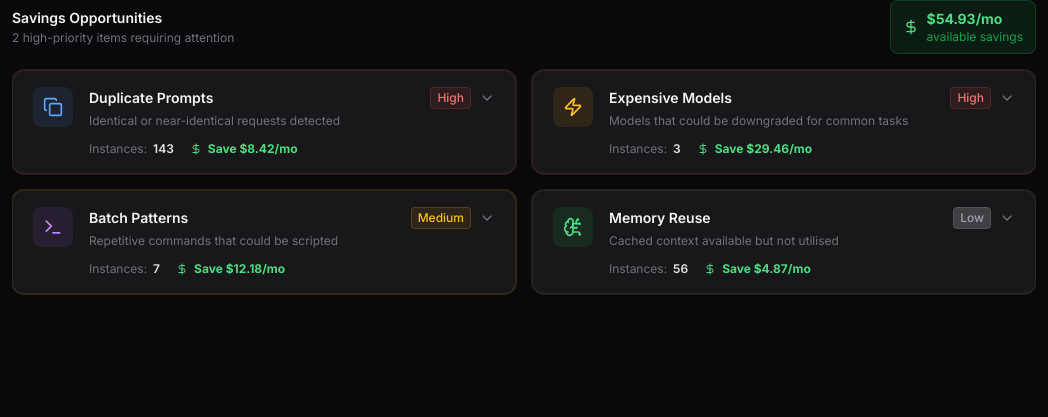
Test: SavingsOpportunities › hides details when the same card is clicked again
Click the button "Duplicate Prompts" at (264, 122), box [13,71,515,173]
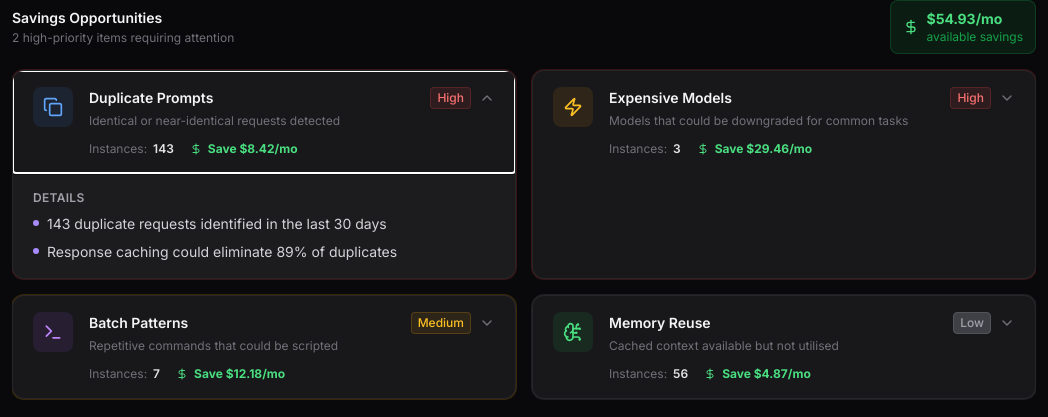
Expected: the text "Details" is shown, [33,190,84,205]
Click the button "Duplicate Prompts" at (264, 122), box [13,71,515,173]
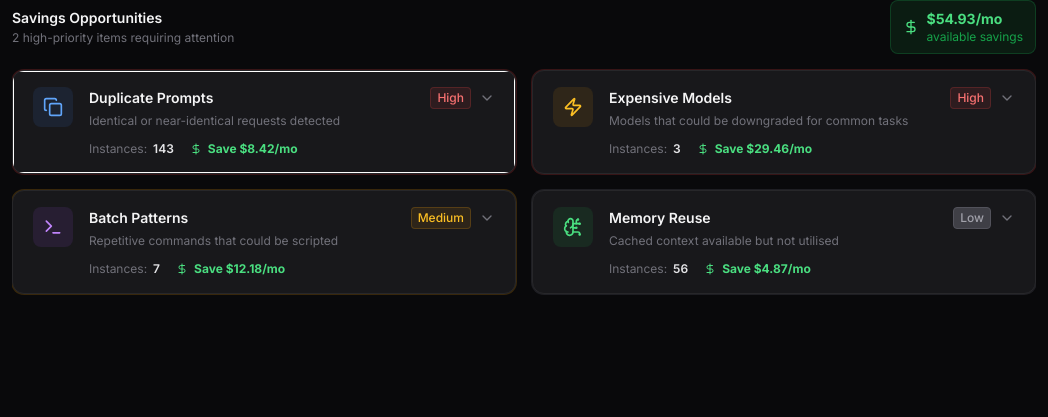
Expected: the text "Details" is gone
